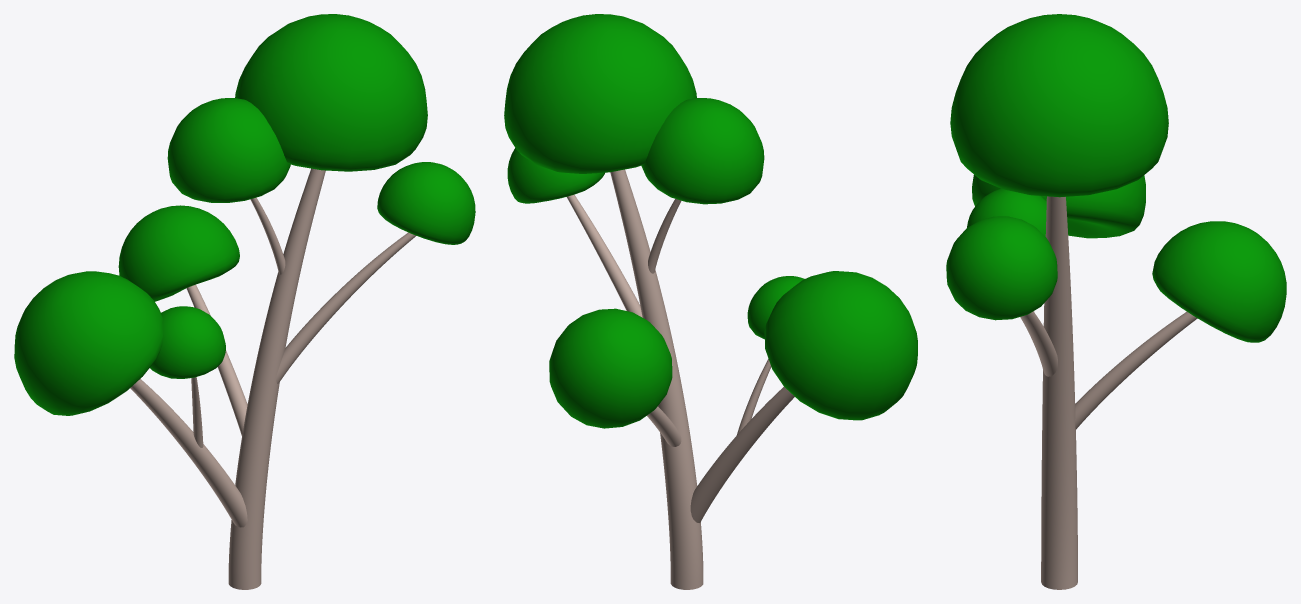
The model's file is tree.fbx.
The picture shows the model from 3 angles, left to right: view 1: azimuth 30°, elevation 25°; view 2: azimuth 150°, elevation 25°; view 3: azimuth 270°, elevation 25°; orthographic projection. The views are drawn at different scales.
Visible parts, largest first — view 1: pSphere1, pasted__pasted__pasted__pSphere1, pCylinder1, pasted__pSphere1, pasted__pasted__pSphere1, pasted__pasted__pCylinder1 (×3), pasted__pasted__pasted__pasted__pasted__pSphere1, pasted__pasted__pasted__pasted__pSphere1, pasted__pCylinder1; view 2: pSphere1, pasted__pasted__pasted__pSphere1, pasted__pasted__pSphere1, pasted__pSphere1, pCylinder1, pasted__pasted__pCylinder1 (×3), pasted__pasted__pasted__pasted__pasted__pSphere1, pasted__pasted__pasted__pasted__pSphere1, pasted__pCylinder1, pasted__pasted__pasted__pCylinder1; view 3: pSphere1, pasted__pasted__pSphere1, pCylinder1, pasted__pasted__pasted__pasted__pasted__pSphere1, pasted__pasted__pasted__pSphere1, pasted__pCylinder1, pasted__pasted__pasted__pasted__pSphere1, pasted__pasted__pCylinder1.
Boxes of the visible parts, x1=… form: pSphere1: x1=235, y1=14, x2=427, y2=171; pasted__pasted__pasted__pSphere1: x1=14, y1=271, x2=163, y2=415; pCylinder1: x1=228, y1=168, x2=325, y2=589; pasted__pSphere1: x1=167, y1=98, x2=290, y2=202; pasted__pasted__pSphere1: x1=118, y1=205, x2=239, y2=301; pasted__pasted__pCylinder1 (×3): x1=130, y1=197, x2=416, y2=527; pasted__pasted__pasted__pasted__pasted__pSphere1: x1=377, y1=162, x2=475, y2=244; pasted__pasted__pasted__pasted__pSphere1: x1=150, y1=306, x2=225, y2=378; pasted__pCylinder1: x1=186, y1=284, x2=247, y2=435; pSphere1: x1=504, y1=14, x2=696, y2=173; pasted__pasted__pasted__pSphere1: x1=764, y1=271, x2=917, y2=420; pasted__pasted__pSphere1: x1=549, y1=308, x2=672, y2=428; pasted__pSphere1: x1=641, y1=98, x2=764, y2=204; pCylinder1: x1=610, y1=169, x2=703, y2=589; pasted__pasted__pCylinder1 (×3): x1=567, y1=194, x2=794, y2=522; pasted__pasted__pasted__pasted__pasted__pSphere1: x1=507, y1=148, x2=604, y2=203; pasted__pasted__pasted__pasted__pSphere1: x1=747, y1=276, x2=804, y2=339; pasted__pCylinder1: x1=647, y1=406, x2=681, y2=446; pasted__pasted__pasted__pCylinder1: x1=737, y1=359, x2=771, y2=434; pSphere1: x1=950, y1=14, x2=1168, y2=197; pasted__pasted__pSphere1: x1=1152, y1=221, x2=1286, y2=342; pCylinder1: x1=1041, y1=196, x2=1077, y2=589; pasted__pasted__pasted__pasted__pasted__pSphere1: x1=946, y1=216, x2=1057, y2=320; pasted__pasted__pasted__pSphere1: x1=972, y1=174, x2=1145, y2=238; pasted__pCylinder1: x1=1075, y1=311, x2=1197, y2=429; pasted__pasted__pasted__pasted__pSphere1: x1=967, y1=188, x2=1046, y2=236; pasted__pasted__pCylinder1: x1=1020, y1=311, x2=1057, y2=376.
Bounding box in the file's own units: 29.41 × 36.18 × 18.45.
